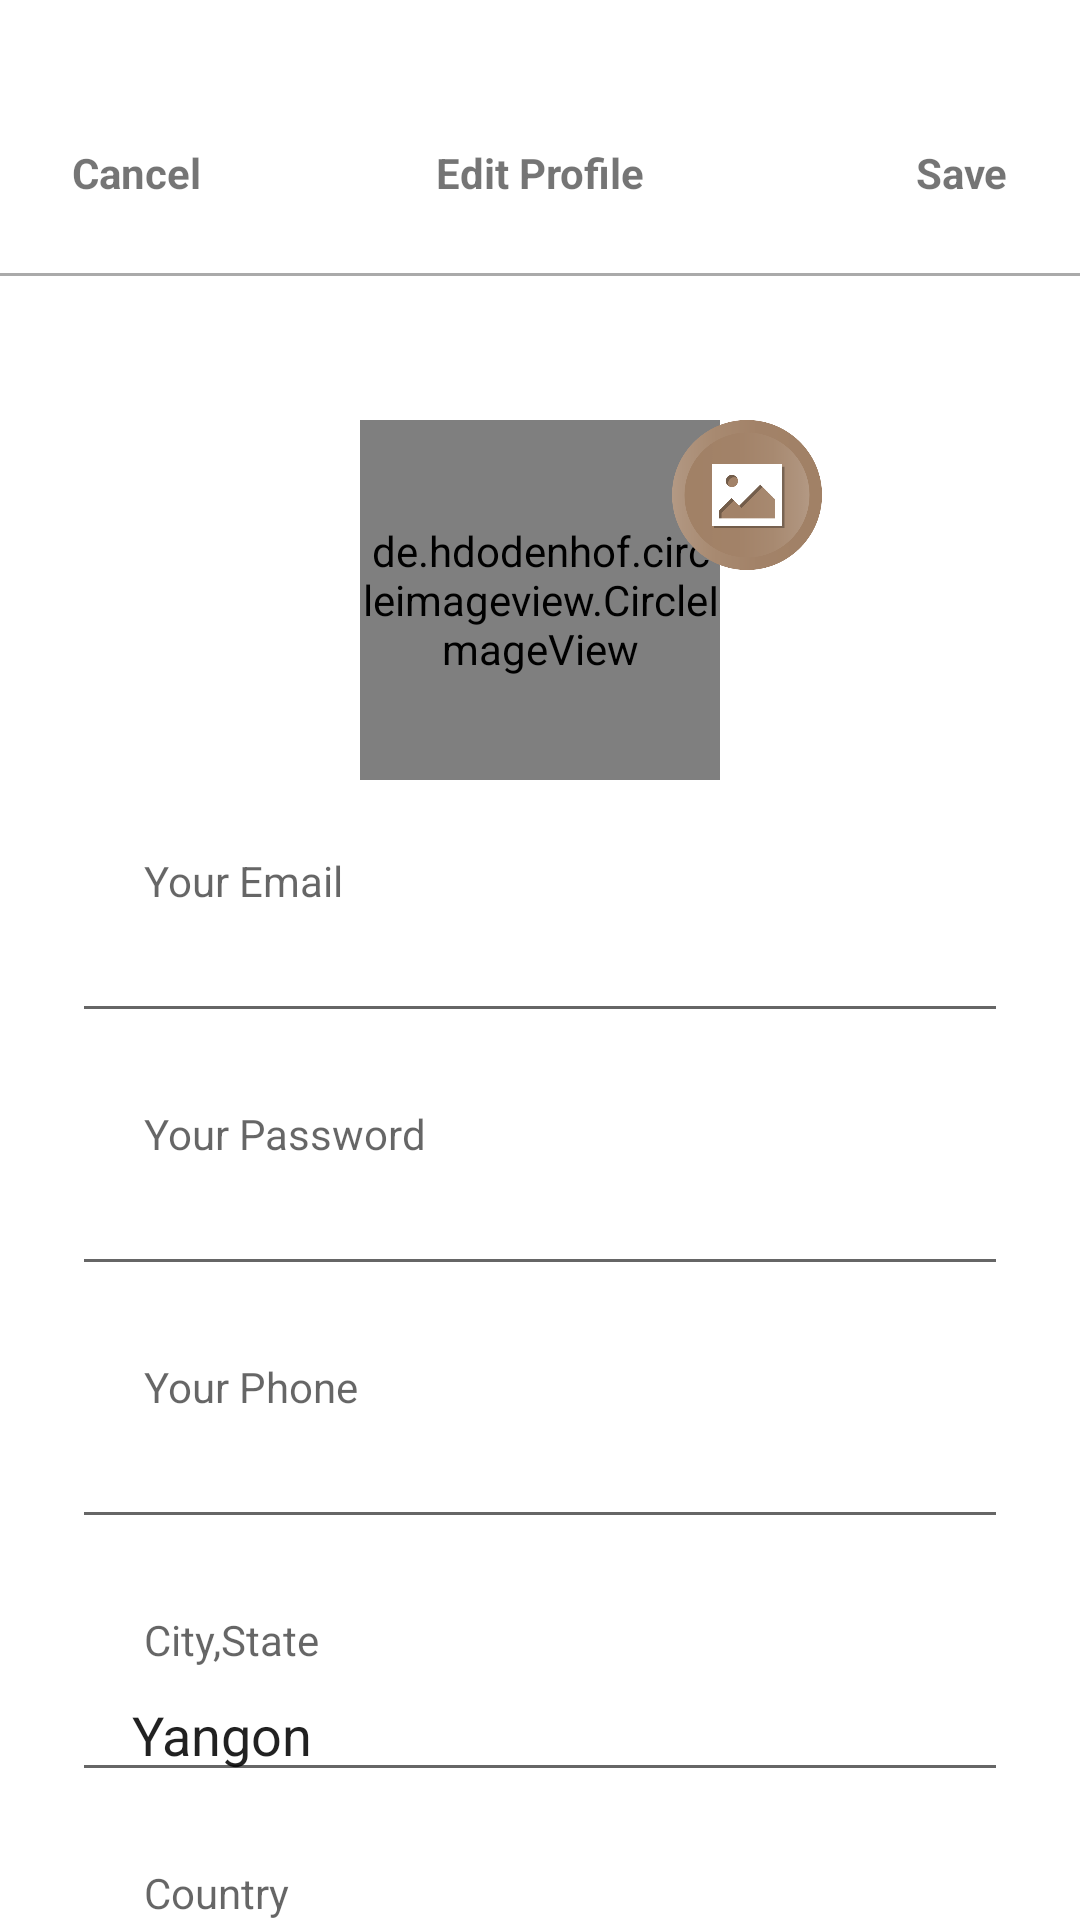

Point at icon controls on the screen. Image size 1080 x 1920, points as (x=x, y=y).
gallery: (x=747, y=495)
